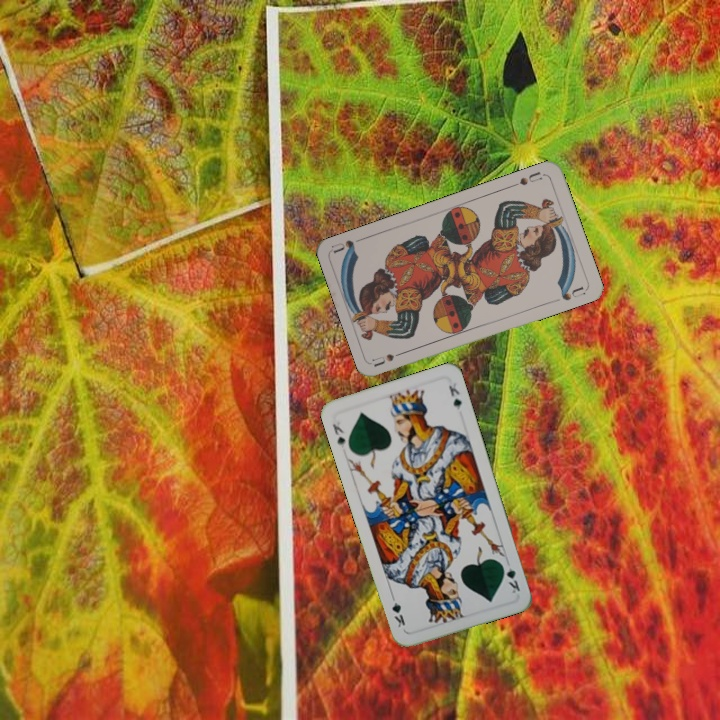GK: (498, 557, 523, 596), (328, 417, 348, 450)
SU: (369, 347, 410, 369), (508, 168, 545, 190)
